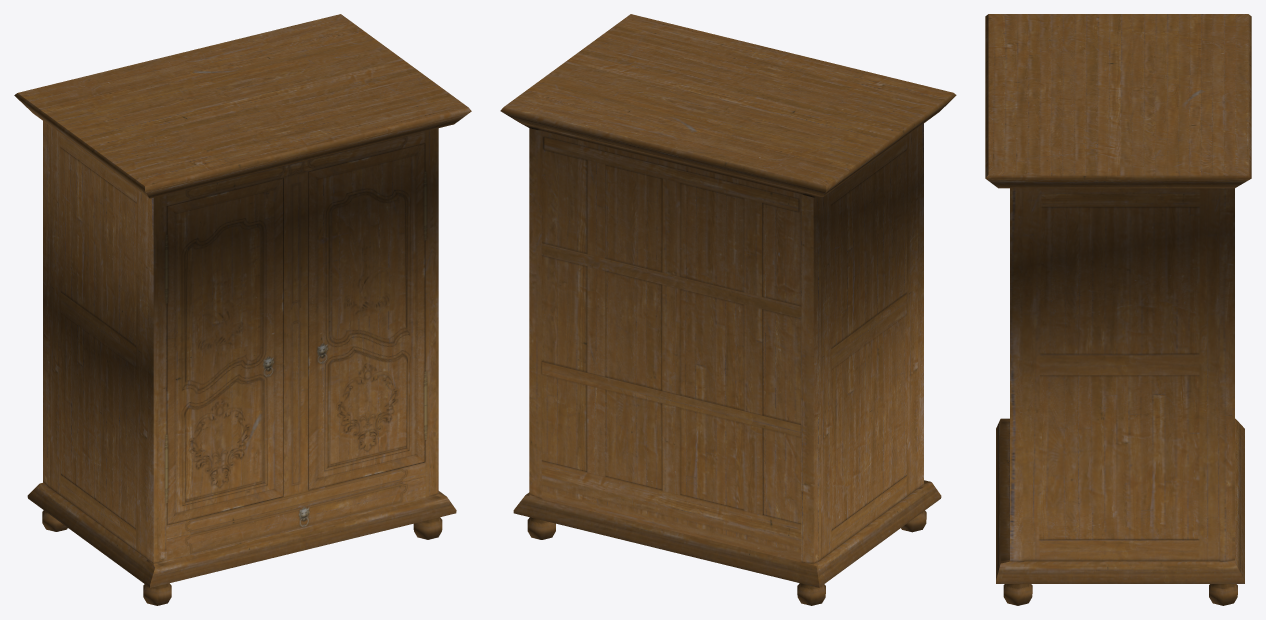
File: armoire.glb
3 renders of one model, left to right at view 1: azimuth 30°, elevation 25°; view 2: azimuth 150°, elevation 25°; view 3: azimuth 270°, elevation 25°, orthographic. The views are drawn at different scales.
Visible parts, largest first — view 1: armoireLow; view 2: armoireLow; view 3: armoireLow.
Part boxes in pixels (box(x1,y1,x2,y2)): armoireLow: box(14, 14, 471, 605); armoireLow: box(500, 14, 956, 605); armoireLow: box(985, 14, 1251, 605).
Bounding box in the file's own units: 167 × 210 × 115.
Materials: 1 (1 with a texture image).
